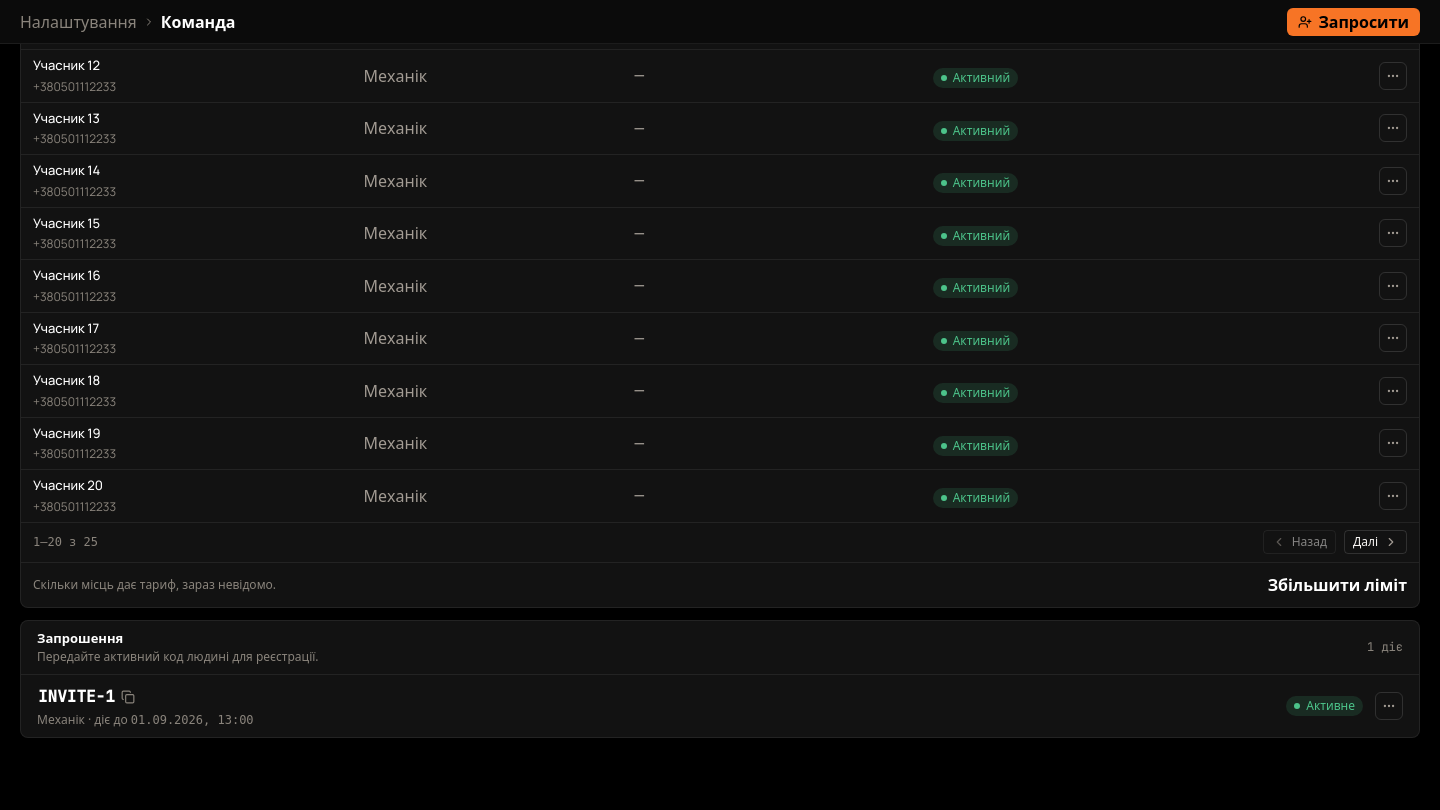
it: paginates members and resets the page when filtering by role or search
This screenshot has width=1440, height=810.
(page scrolled)
Expected: the text "Учасник 21" is not shown
Click the button with aria-label "Наступна сторінка" at {"x": 1375, "y": 542}, box [1344,530,1407,554]
(page scrolled)
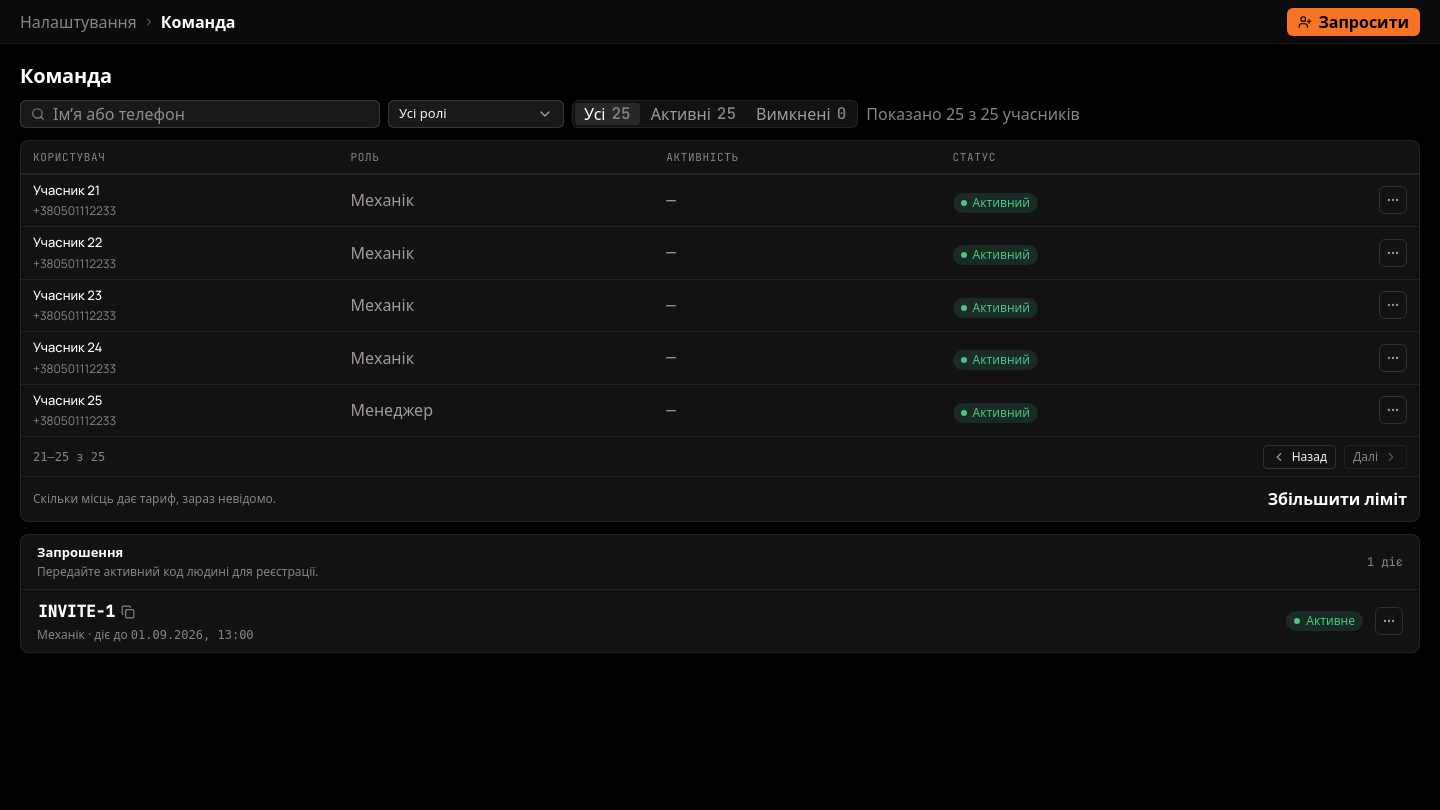
Expected: the text "Учасник 21" is shown, [33,180,100,198]
Click the button named "Фільтр за роллю" at {"x": 476, "y": 114}, box [388,100,564,128]
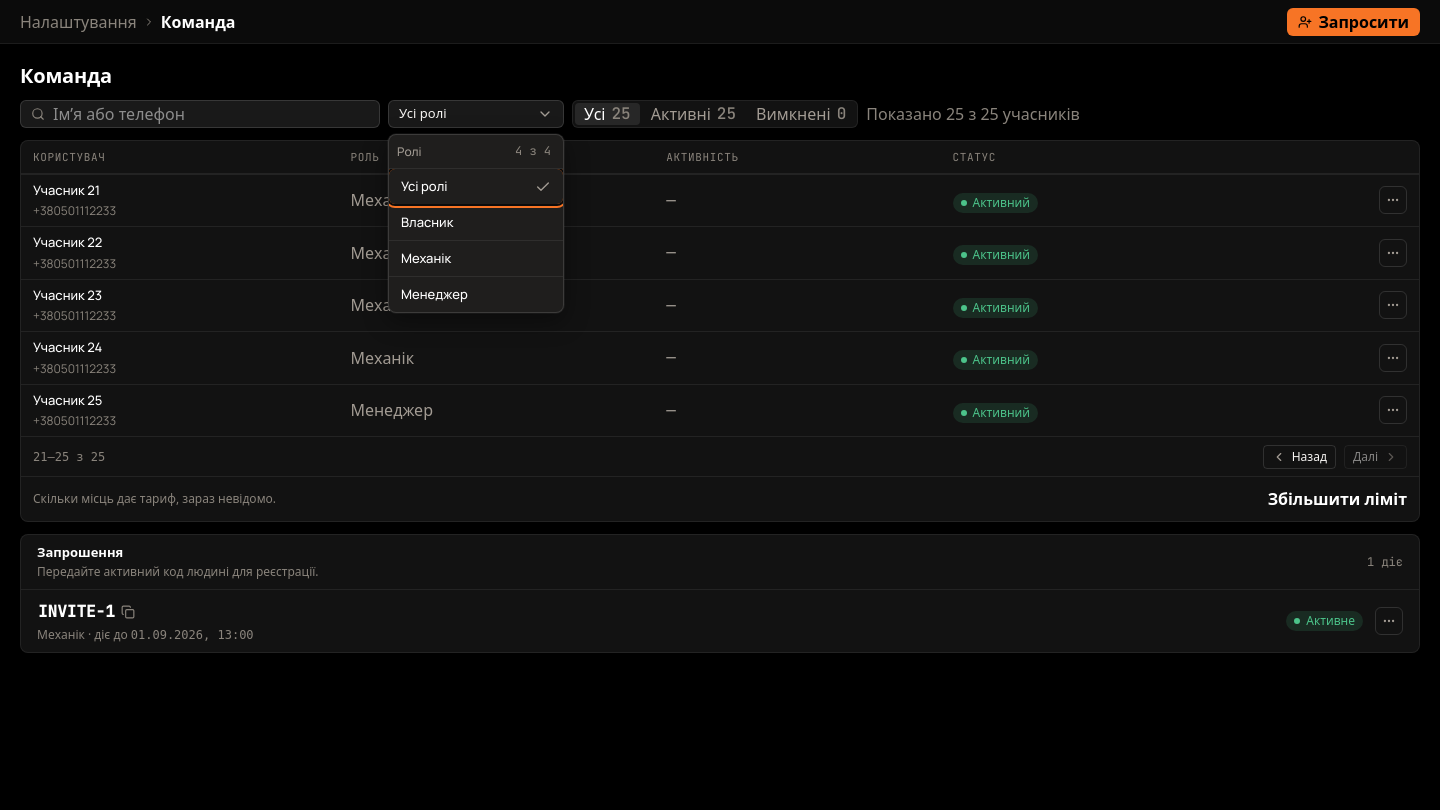
Click the option "Менеджер" at {"x": 476, "y": 294}, box [389,277,563,312]
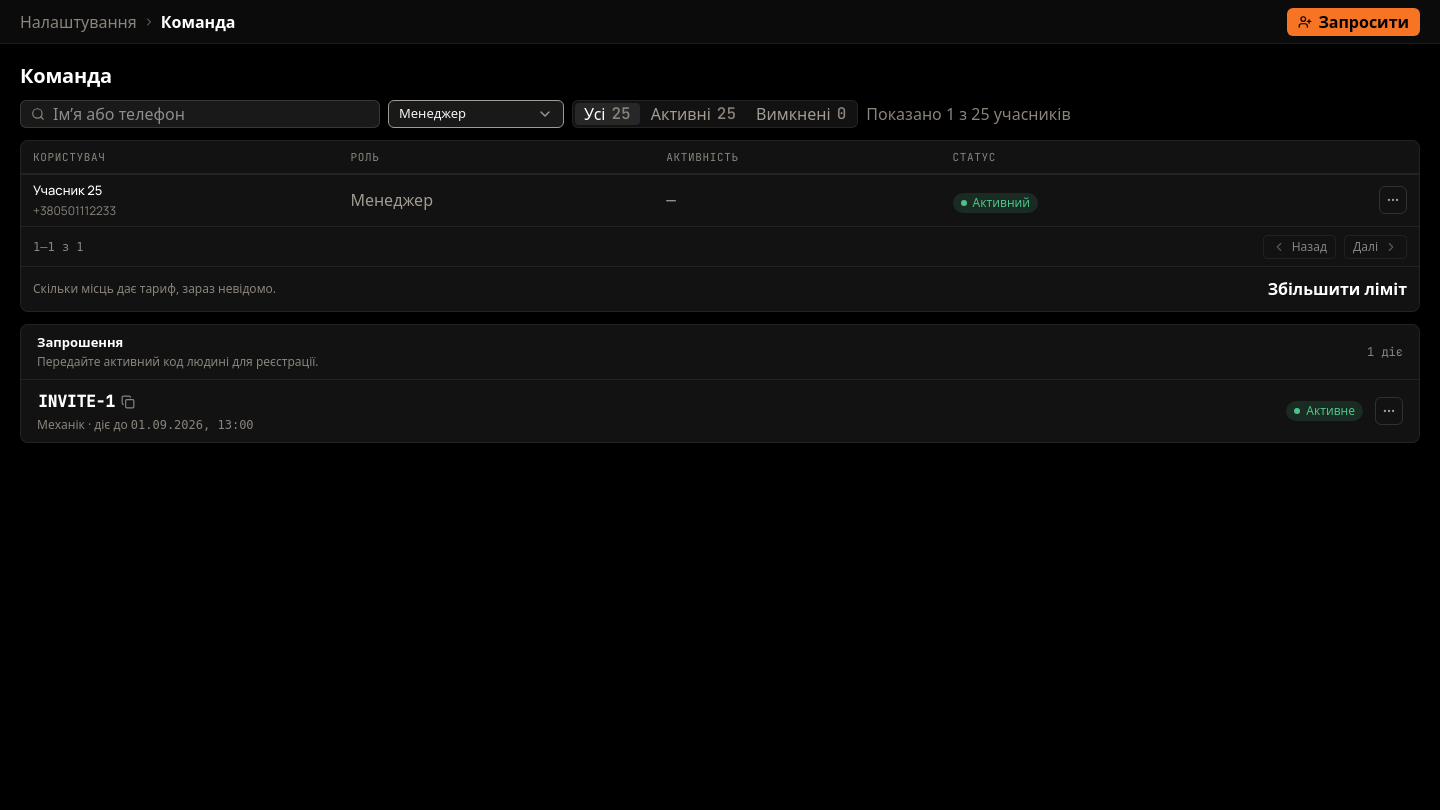
Expected: the text "Учасник 25" is shown, [33,180,102,198]
Expected: the list "Усі ролі Власник Механік Менеджер" is gone
Expected: the text "Учасник 21" is gone
Click the button named "Фільтр за роллю" at {"x": 476, "y": 114}, box [388,100,564,128]
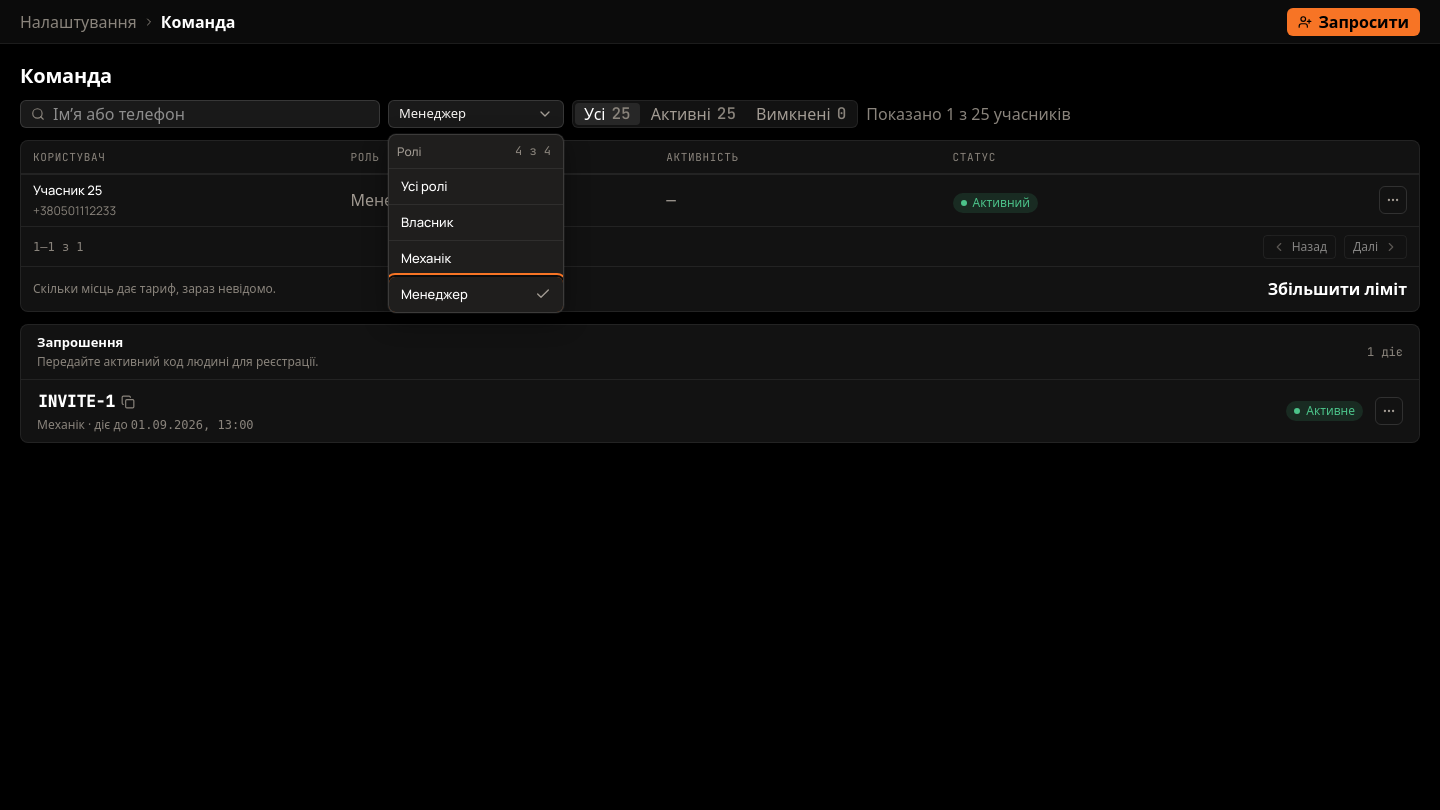
Click the option "Усі ролі" at {"x": 476, "y": 187}, box [389,169,563,204]
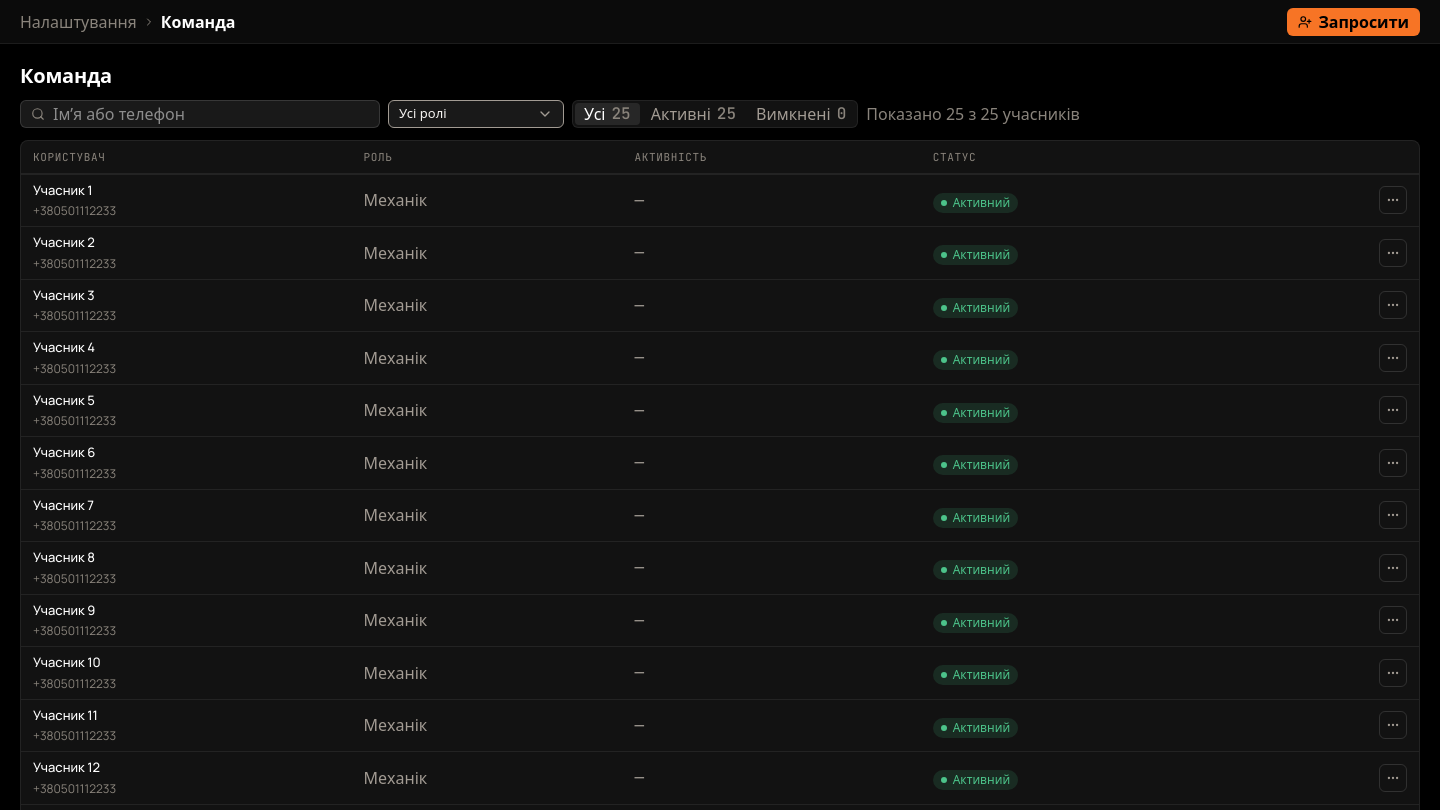
Expected: the list "Усі ролі Власник Механік Менеджер" is gone
Type "Учасник 25" into the search field named "Пошук учасників" at {"x": 211, "y": 114}, box [53,102,369,126]
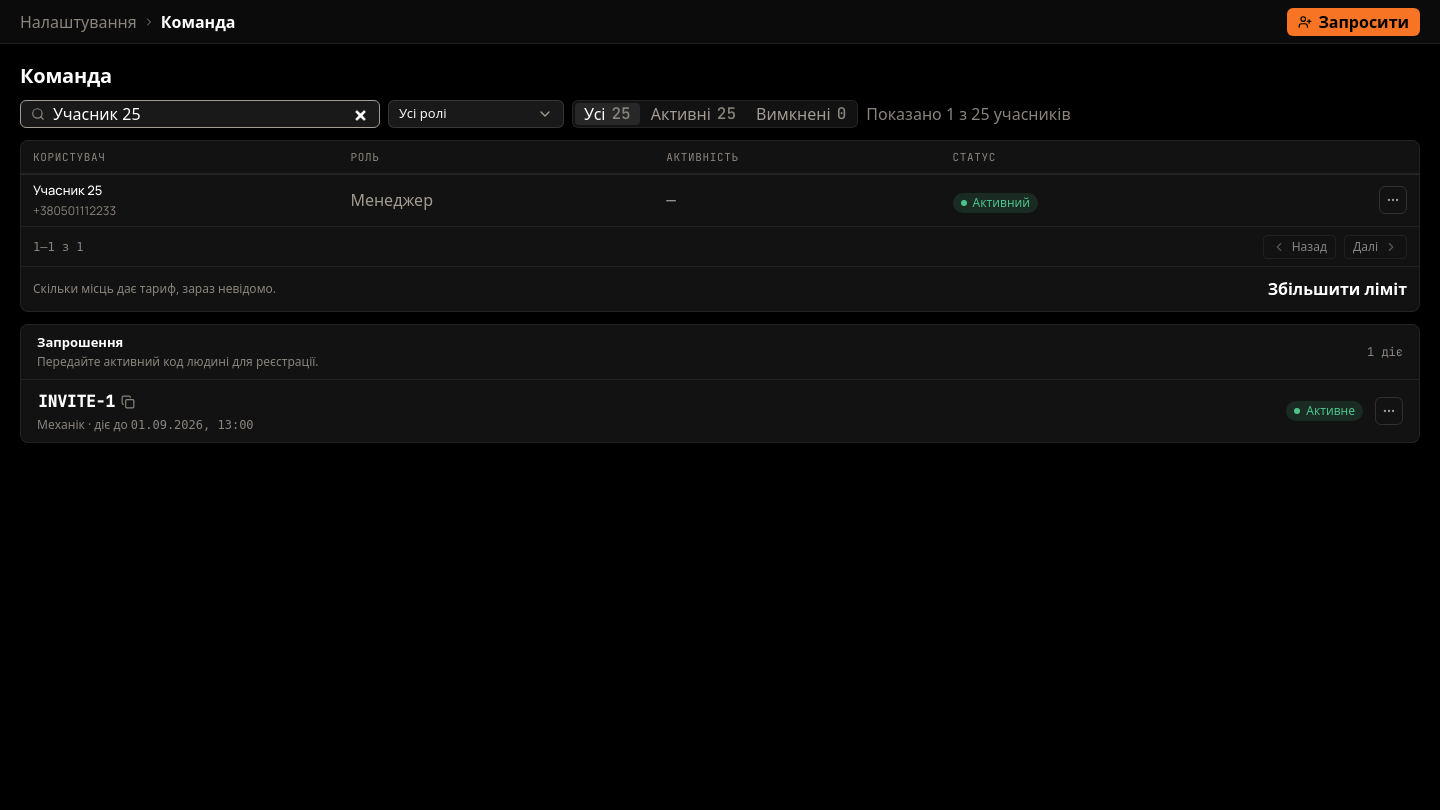
Expected: the text "Учасник 25" is shown, [33,180,102,198]
Expected: the text "1–1 з 1" is shown, [33,238,84,256]
